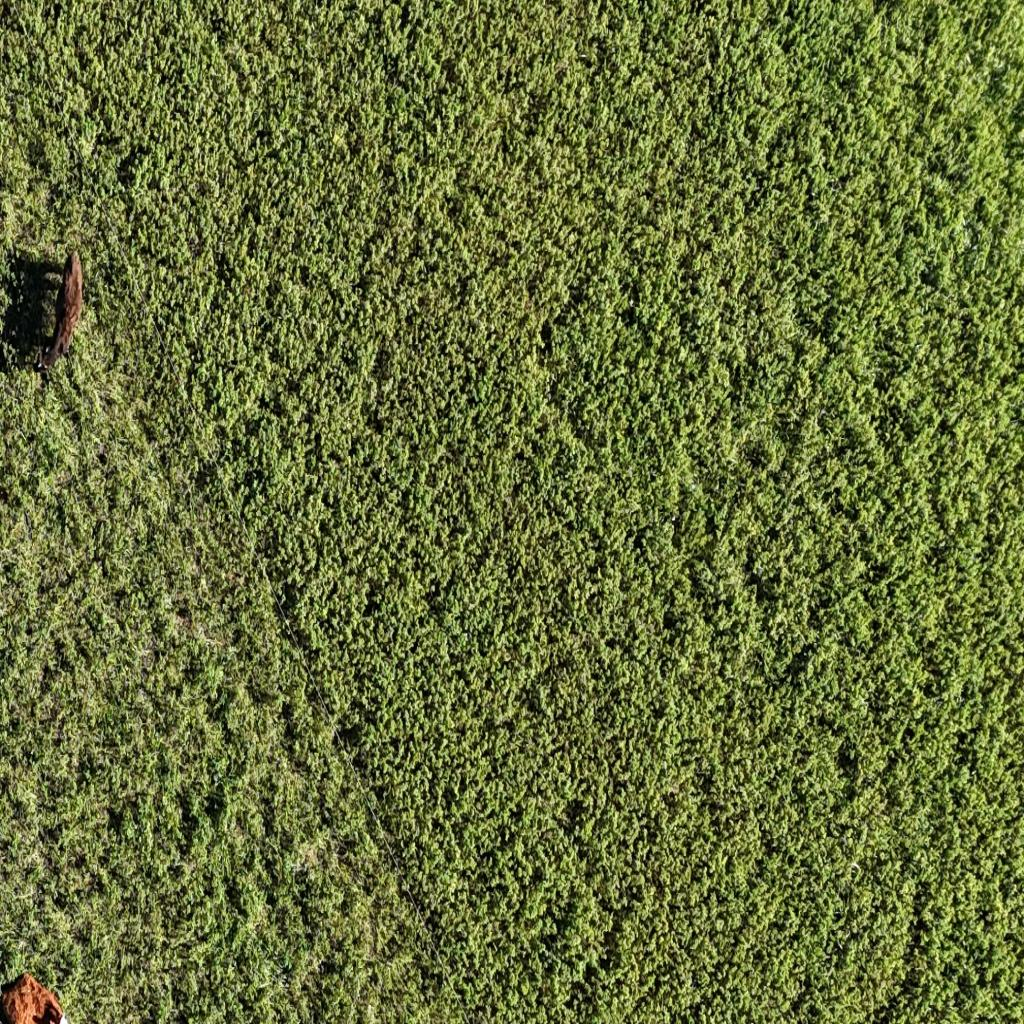cow: (29, 243, 88, 386), (1, 265, 44, 375), (0, 970, 74, 1024)
